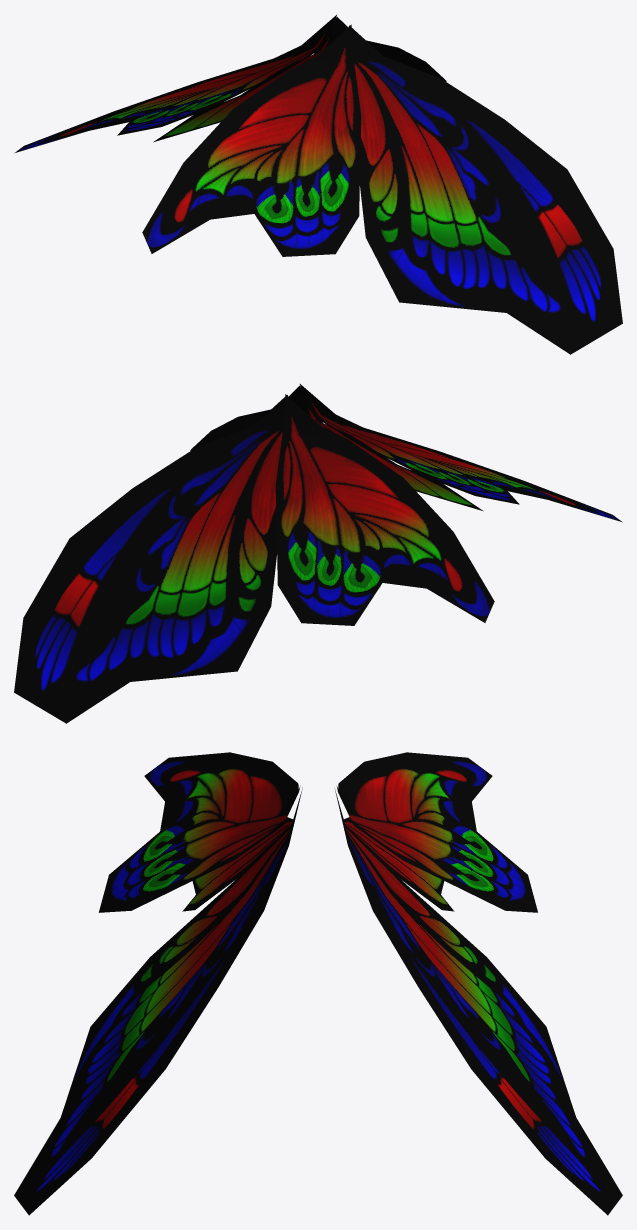
3 renders of one model, top to bottom at view 1: azimuth 30°, elevation 25°; view 2: azimuth 150°, elevation 25°; view 3: azimuth 270°, elevation 25°, orthographic. The views are drawn at different scales.
Visible parts, largest first — view 1: X663A; view 2: X663A; view 3: X663A.
Boxes of the visible parts, <box> form: X663A: <box>15,15,622,354</box>; X663A: <box>14,384,622,723</box>; X663A: <box>14,752,622,1215</box>.
Bounding box in the file's own units: 1.96 × 1.16 × 1.85.
